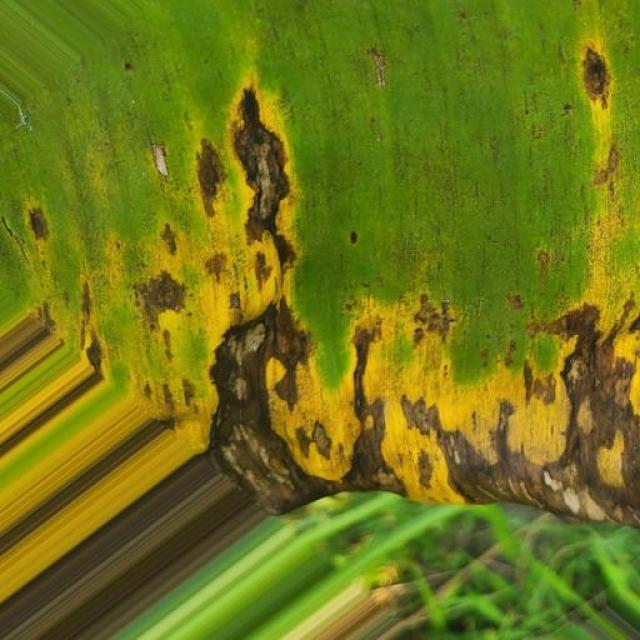Early_rust: (10, 53, 640, 552)
